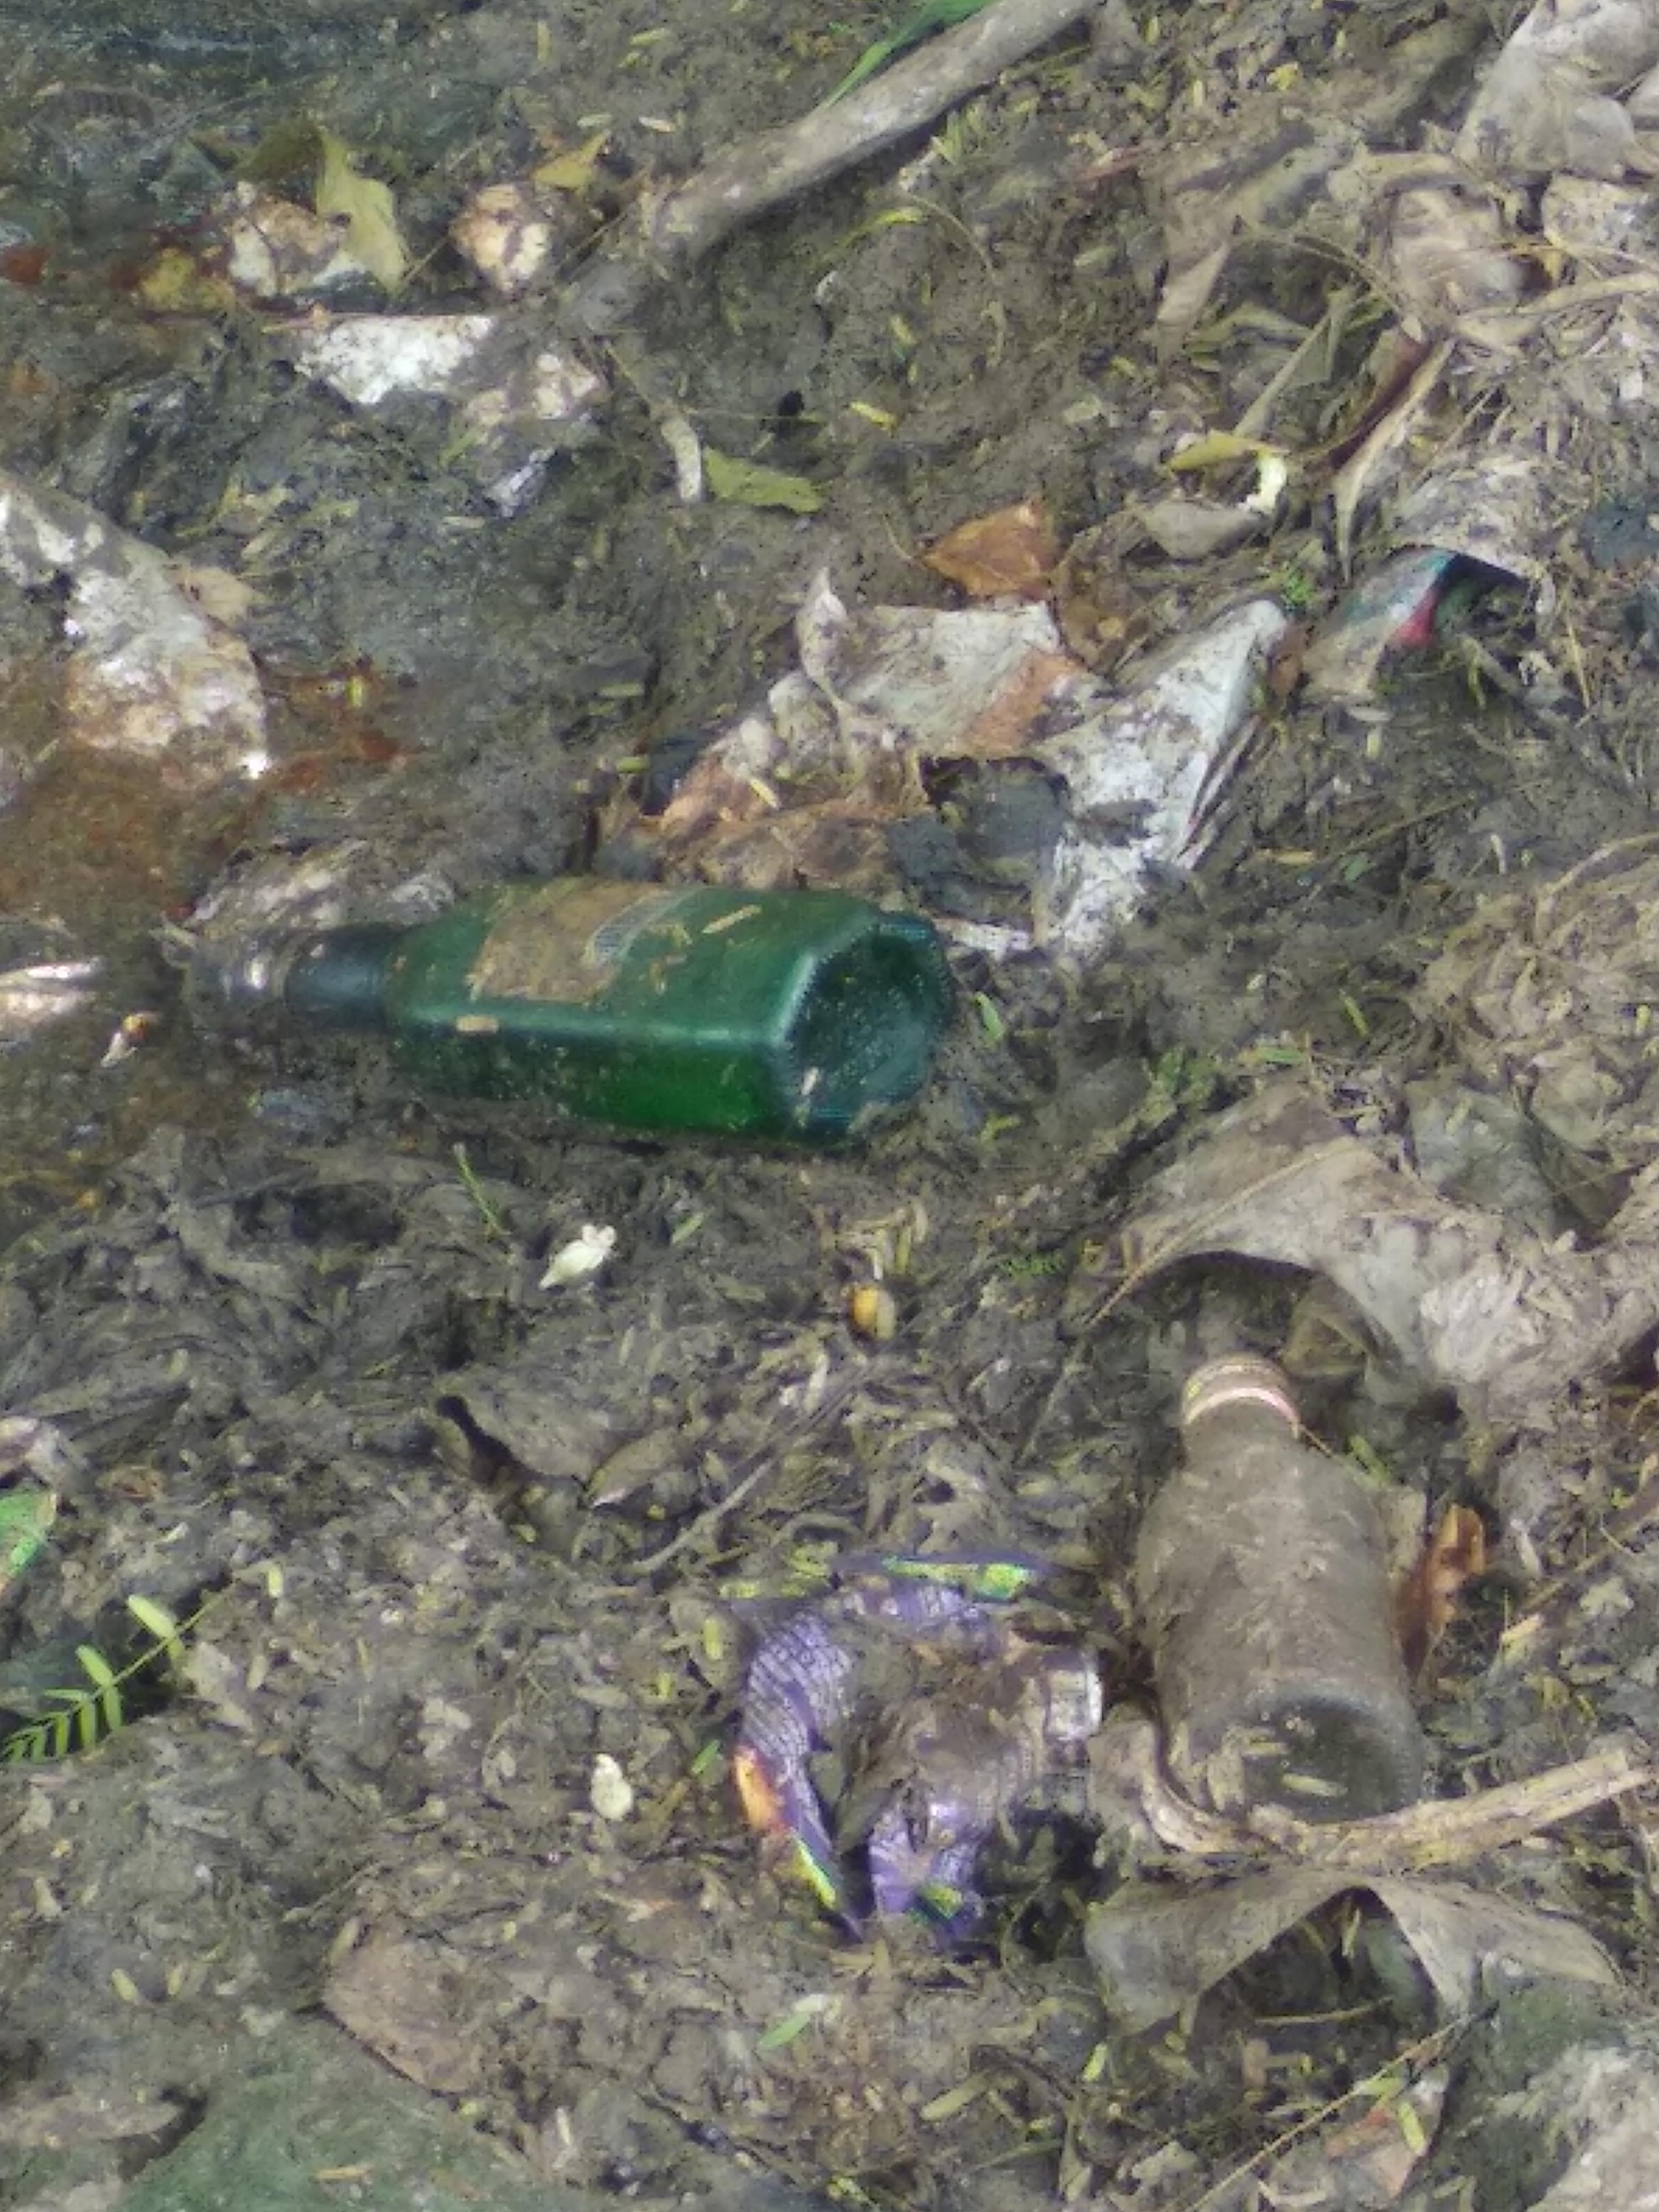trash: (98, 388, 1493, 1881)
